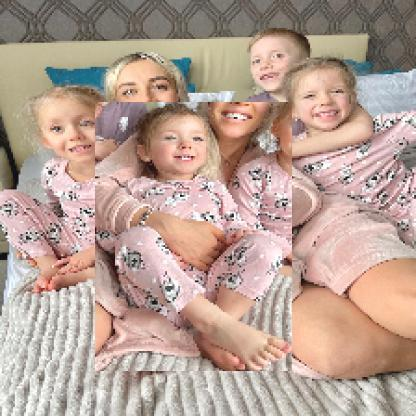child: (96, 103, 294, 374), (2, 86, 162, 296), (276, 58, 416, 250), (238, 28, 376, 158)
